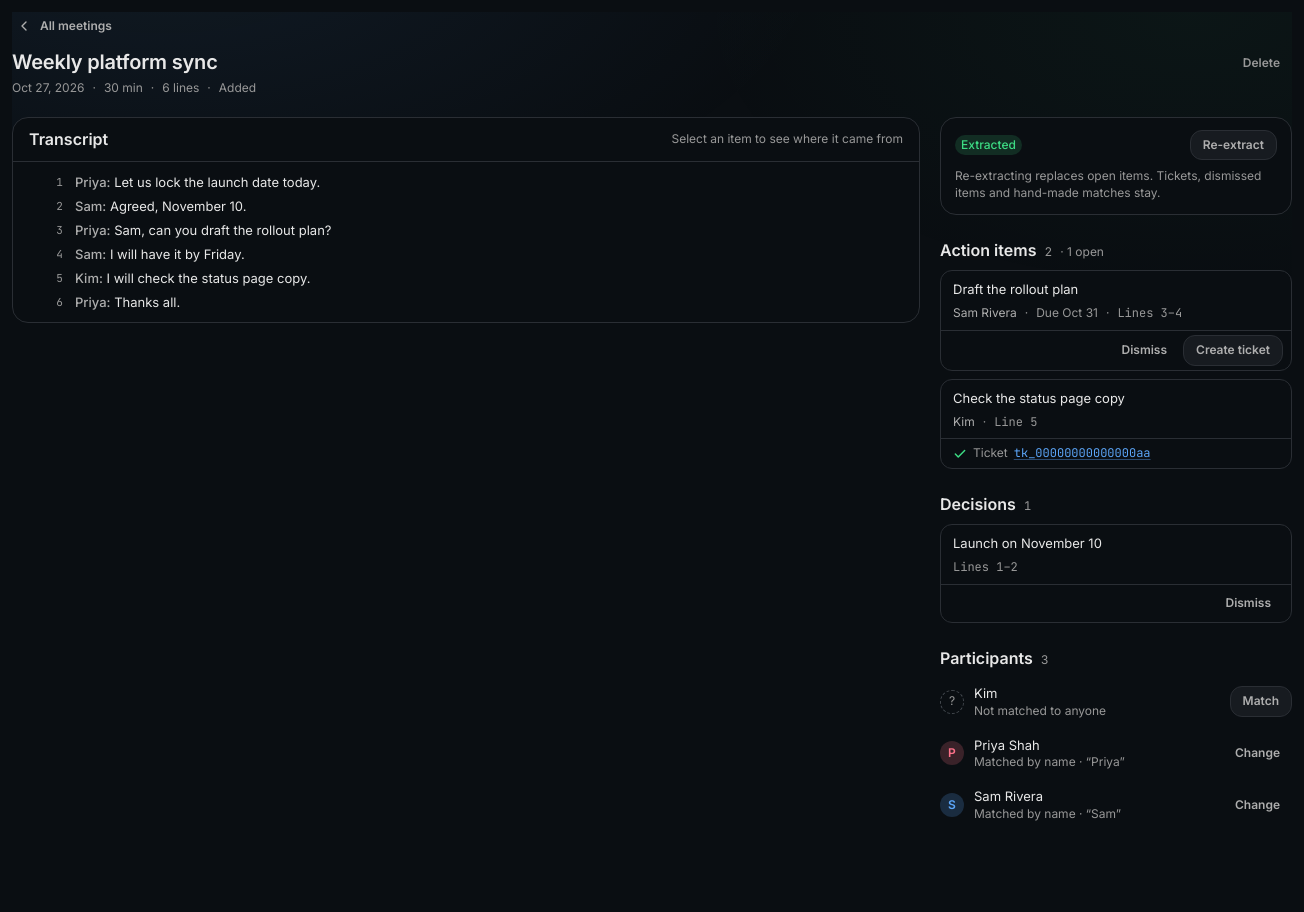
Test: MeetingDetailView › explains a failed extraction in words
Click the button "Re-extract".
click(1233, 145)  # box [1190,130,1277,160]
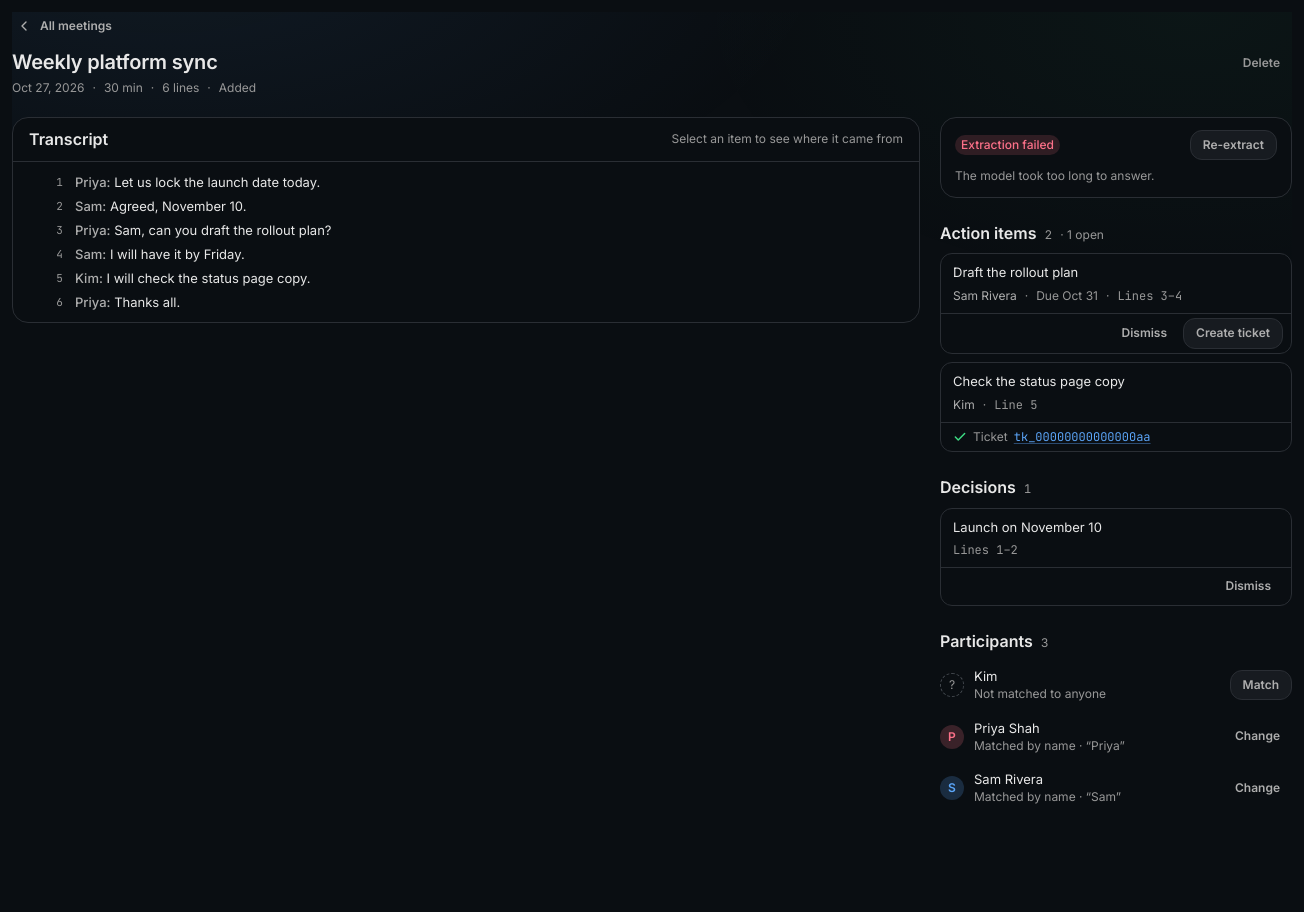
Expected: the text "The model took too long to answer." is shown, [955,168,1155,183]
